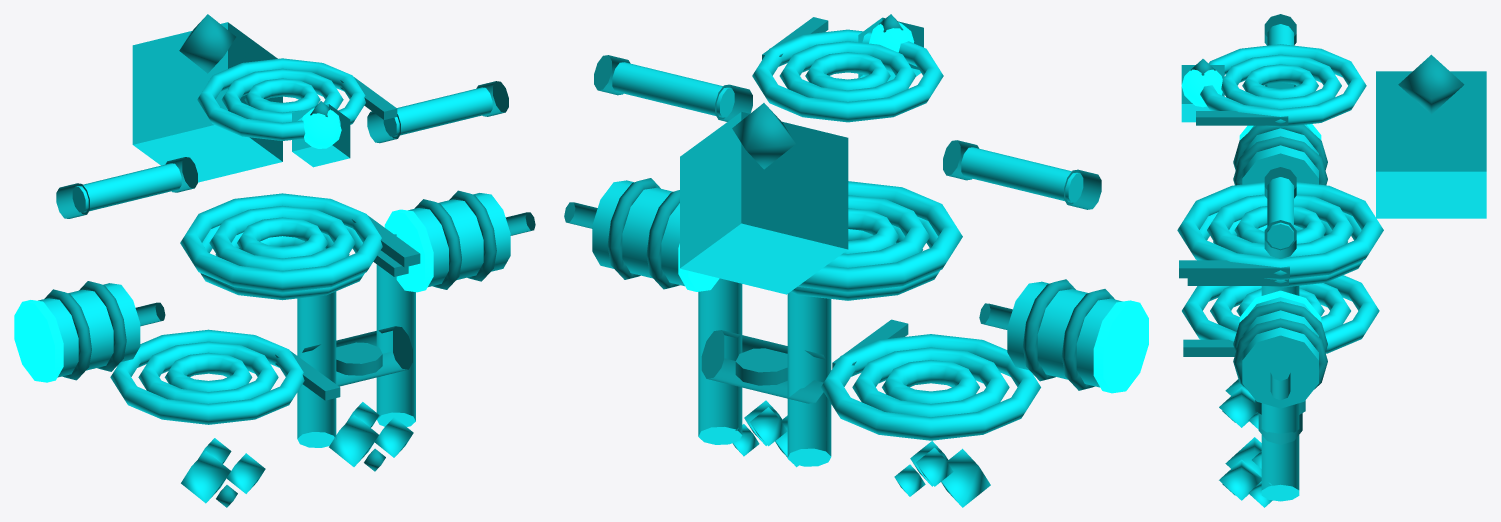
Rendered from golem_050.glb.
3 renders of one model, left to right at view 1: azimuth 30°, elevation 25°; view 2: azimuth 150°, elevation 25°; view 3: azimuth 270°, elevation 25°, orthographic. The views are drawn at different scales.
Visible parts, largest first — view 1: Body, Detail, Glow; view 2: Body, Detail, Glow; view 3: Body, Detail, Glow.
Boxes of the visible parts, left/top/right/bottom form: Body: left=38, top=22, right=510, bottom=503; Detail: left=44, top=14, right=535, bottom=507; Glow: left=14, top=108, right=433, bottom=382; Body: left=592, top=17, right=1122, bottom=507; Detail: left=564, top=14, right=1114, bottom=403; Glow: left=678, top=22, right=1148, bottom=393; Body: left=1177, top=24, right=1486, bottom=507; Detail: left=1179, top=14, right=1464, bottom=495; Glow: left=1181, top=69, right=1321, bottom=322.
Bounding box in the file's own units: 1.21 × 0.9379 × 0.6467.
